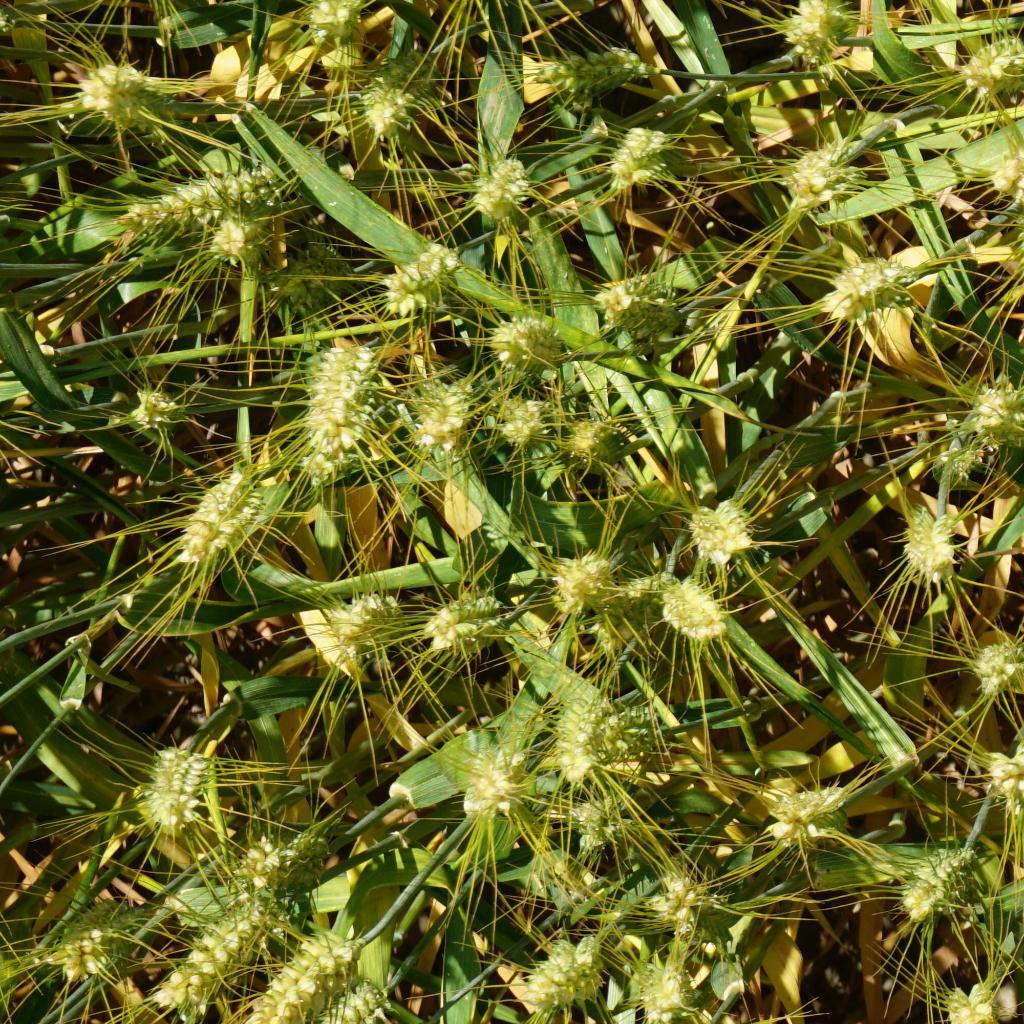0-0: (162, 899, 262, 1003), (118, 166, 294, 221), (173, 467, 260, 561), (415, 584, 514, 663), (253, 935, 335, 1018), (527, 39, 653, 93), (586, 276, 685, 342), (300, 344, 368, 440), (827, 254, 919, 323), (140, 740, 204, 837), (361, 45, 438, 125), (261, 240, 350, 308), (531, 938, 611, 1013), (592, 122, 675, 194), (77, 57, 155, 133), (56, 903, 147, 967), (624, 958, 711, 1024), (777, 142, 862, 208), (902, 842, 973, 921), (776, 786, 860, 852), (461, 152, 536, 224), (330, 579, 399, 653), (549, 694, 611, 776), (953, 27, 1024, 98), (415, 379, 475, 455), (775, 0, 848, 62), (687, 496, 756, 560), (387, 250, 460, 310), (488, 317, 566, 373), (293, 416, 349, 491), (660, 583, 732, 641), (233, 833, 322, 879), (905, 509, 959, 580), (660, 863, 718, 927), (603, 694, 657, 762), (588, 584, 673, 627), (936, 973, 1007, 1024), (561, 791, 624, 847), (470, 748, 523, 812), (313, 980, 385, 1024), (973, 638, 1024, 698), (555, 547, 610, 602), (566, 406, 615, 466), (984, 146, 1024, 216), (121, 387, 182, 432), (496, 393, 547, 445), (937, 440, 986, 491), (977, 387, 1024, 438), (988, 752, 1024, 815), (303, 0, 365, 35), (213, 217, 263, 259)
